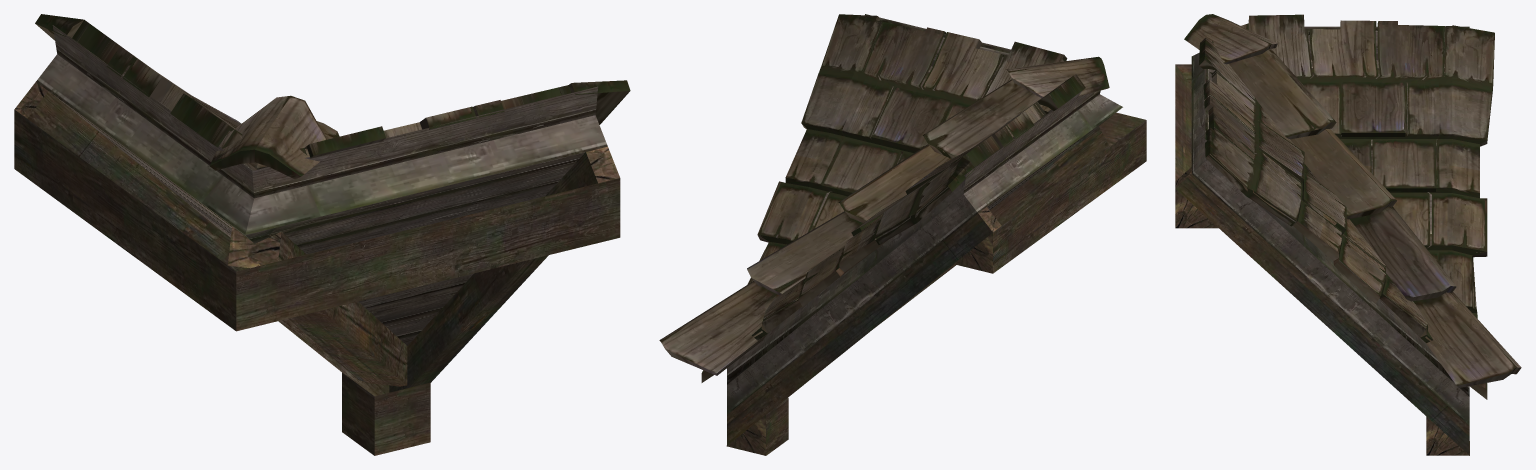
3 views of the same model, side by side, from view 1: azimuth 30°, elevation 25°; view 2: azimuth 150°, elevation 25°; view 3: azimuth 270°, elevation 25° (orthographic). The views are drawn at different scales.
Visible parts, largest first — view 1: SM_T1_Roof_Med_Valley_LOD0; view 2: SM_T1_Roof_Med_Valley_LOD0; view 3: SM_T1_Roof_Med_Valley_LOD0.
Part boxes in pixels (x1=…): SM_T1_Roof_Med_Valley_LOD0: x1=14, y1=14, x2=630, y2=455; SM_T1_Roof_Med_Valley_LOD0: x1=659, y1=14, x2=1146, y2=455; SM_T1_Roof_Med_Valley_LOD0: x1=1175, y1=14, x2=1521, y2=455.
Bounding box in the file's own units: 1.98 × 2.09 × 1.98.
3 materials, 3 textured.
